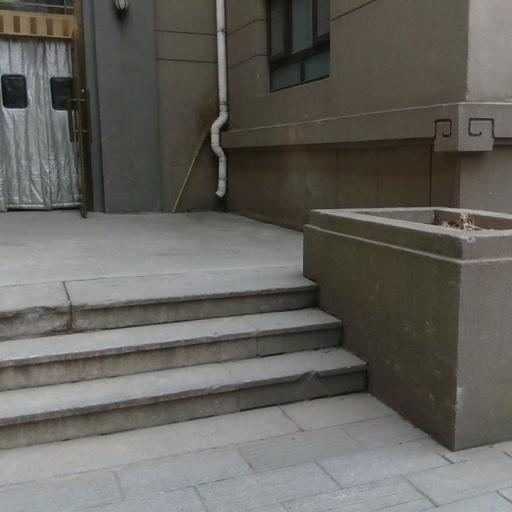stairs: (0, 268, 365, 448)
